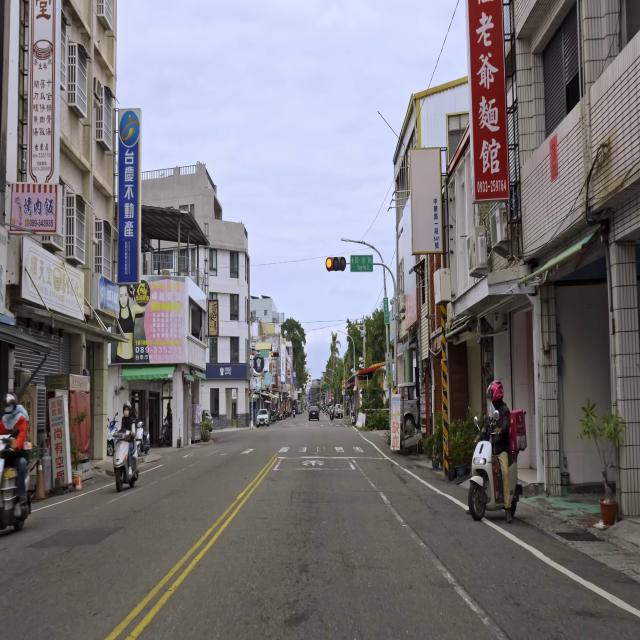red light: (326, 256, 346, 271), (271, 351, 279, 358)
